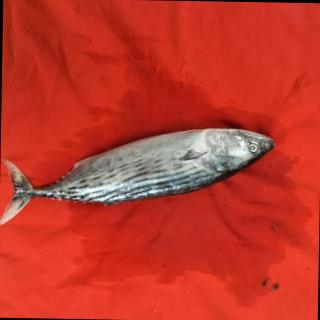Ikan: (7, 118, 286, 225)
